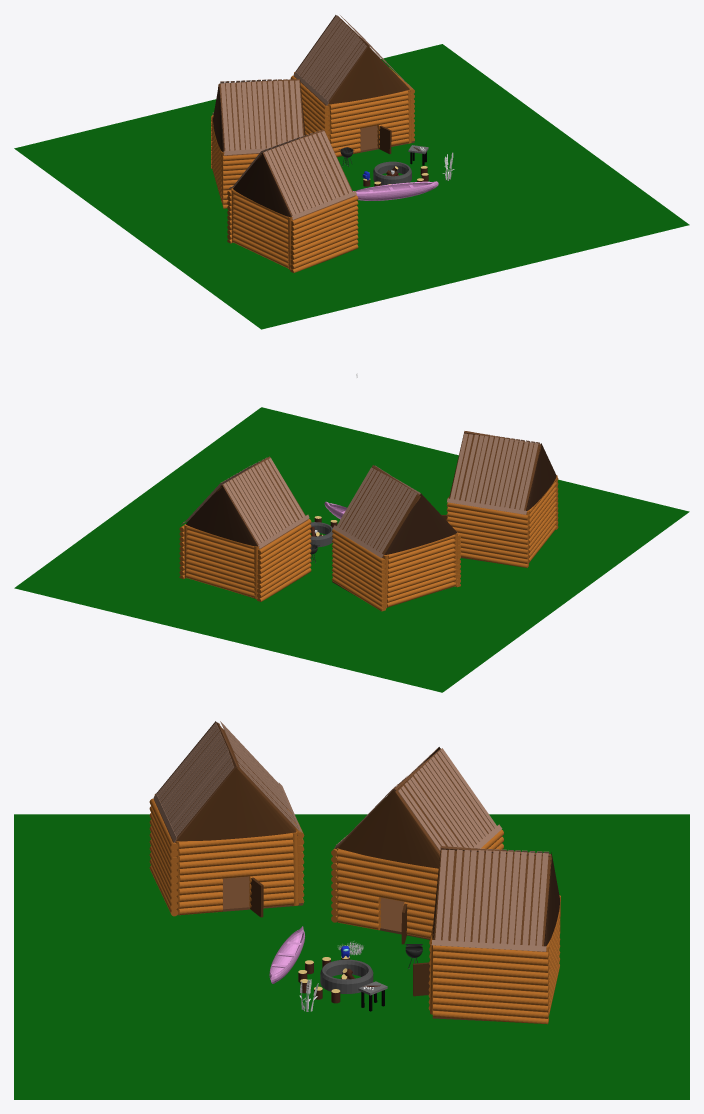
Rendered from logcabin.fbx.
3 views of the same model, one above another, from view 1: azimuth 30°, elevation 25°; view 2: azimuth 150°, elevation 25°; view 3: azimuth 270°, elevation 25° (orthographic). The views are drawn at different scales.
Visible parts, largest first — view 1: grass, Cone, Cube.038, Cube.074, Cone.005, Sphere.001, Cube.002, outer ring; view 2: grass, Cone.003, Cone.001, Cube.073, Cube.002, Cube.037, Cone.005, Cylinder.126, Cylinder.128, Cylinder.127, Cylinder.125; view 3: grass, Cone.004, Cone.002, Cube.001, Cube.037, outer ring, Cube.074, Sphere.001, Cube.072, Cylinder.020, Cylinder.144, Cylinder.016 (+38 smaller).
Part boxes in pixels (<box>): grass: <box>14,44,689,329</box>; Cone: <box>328,46,409,104</box>; Cube.038: <box>219,79,303,155</box>; Cube.074: <box>261,129,354,220</box>; Cone.005: <box>233,153,291,217</box>; Sphere.001: <box>353,181,438,200</box>; Cube.002: <box>294,15,369,105</box>; outer ring: <box>373,161,411,185</box>; grass: <box>14,407,689,692</box>; Cone.003: <box>384,493,457,554</box>; Cone.001: <box>186,485,258,546</box>; Cube.073: <box>449,434,541,510</box>; Cube.002: <box>220,456,307,549</box>; Cube.037: <box>339,467,420,557</box>; Cone.005: <box>526,443,556,510</box>; Cylinder.126: <box>447,511,528,530</box>; Cylinder.128: <box>447,502,528,520</box>; Cylinder.127: <box>447,506,528,525</box>; Cylinder.125: <box>447,516,528,535</box>; grass: <box>14,814,689,1099</box>; Cone.004: <box>176,767,296,841</box>; Cone.002: <box>338,790,439,868</box>; Cube.001: <box>433,849,551,951</box>; Cube.037: <box>395,752,493,857</box>; outer ring: <box>320,959,373,993</box>; Cube.074: <box>154,722,238,842</box>; Sphere.001: <box>269,926,304,983</box>; Cube.072: <box>177,876,303,915</box>; Cylinder.020: <box>432,958,548,972</box>; Cylinder.144: <box>179,846,293,862</box>; Cylinder.016: <box>432,984,548,999</box>.
Bounding box in the file's own units: 26789 × 12111 × 26789.
